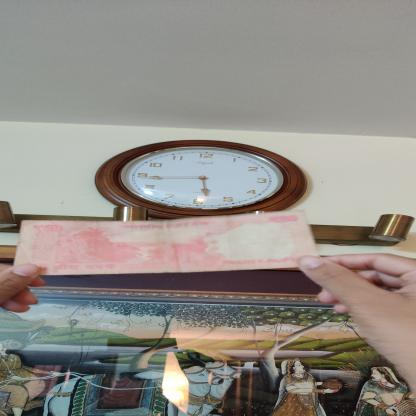Old20Back: (13, 210, 320, 275)
